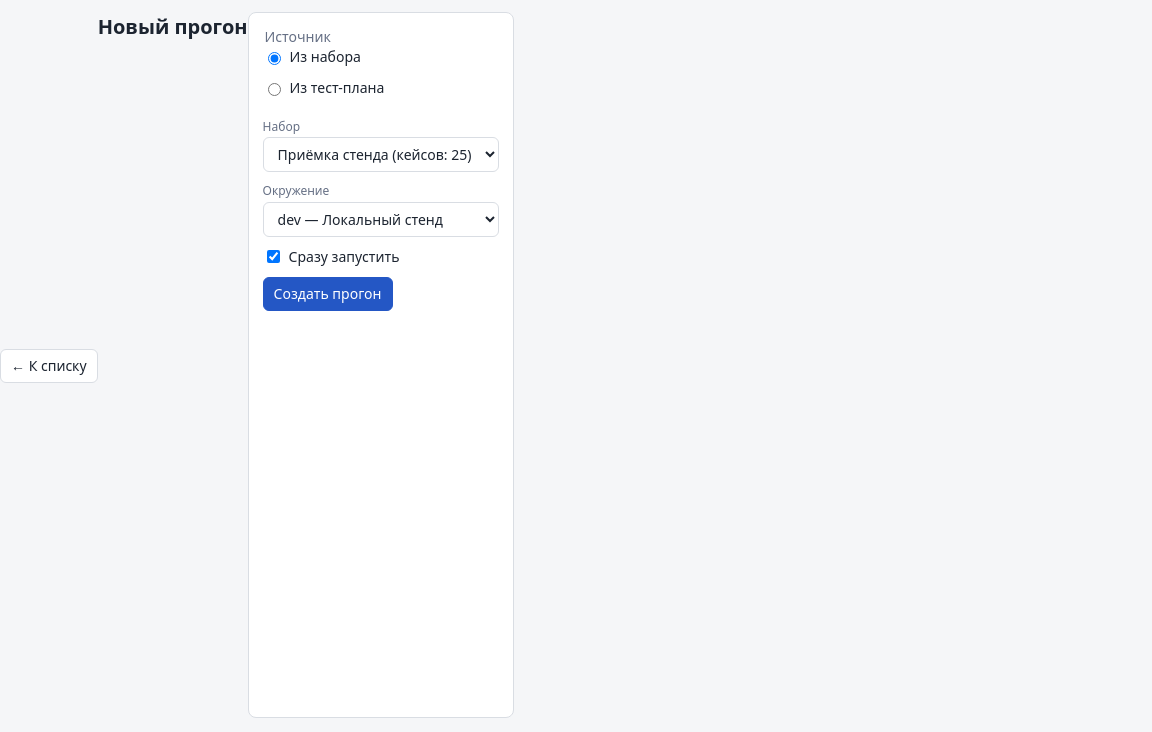
Test: SUITE_ALREADY_RUNNING показывает, какой прогон выполняется
Click the button "Создать прогон". click: coordinates (328, 294)
box: [263, 277, 392, 311]
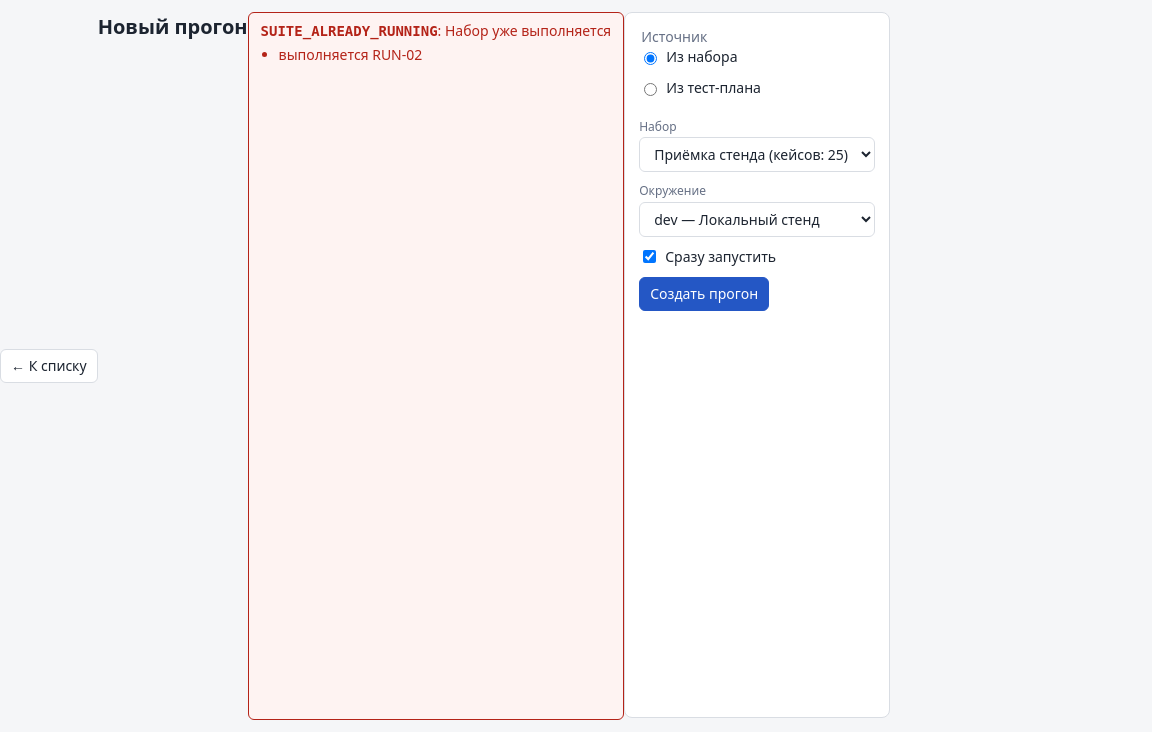
Now the list item "выполняется RUN-02" is shown, box [279, 45, 422, 64]
